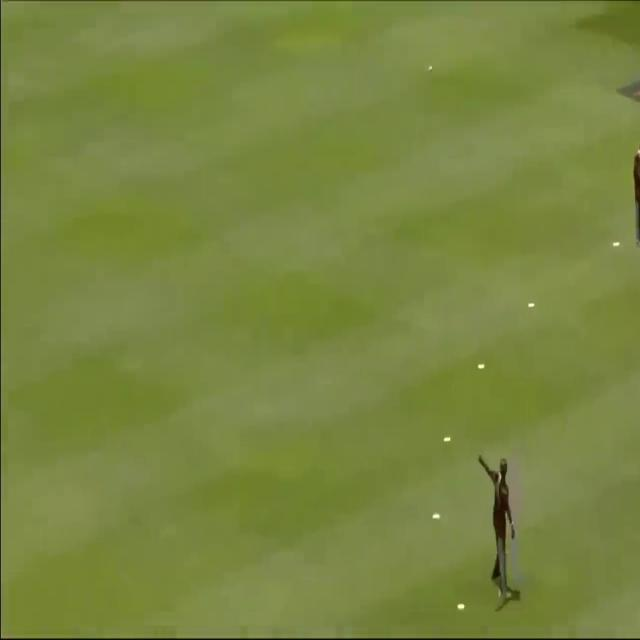Fielder: (485, 453, 515, 603)
